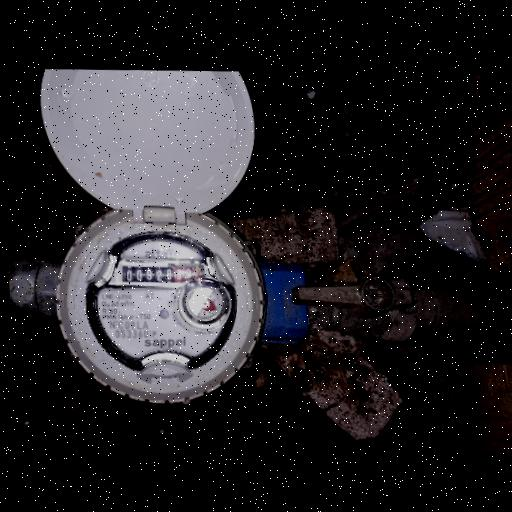0: (134, 265, 144, 283), (124, 266, 134, 282), (183, 268, 193, 282)
2: (154, 266, 166, 283)
3: (174, 266, 184, 283)
8: (164, 266, 174, 282)
9: (143, 266, 155, 283)
border_water_meter_number: (120, 262, 204, 287)
